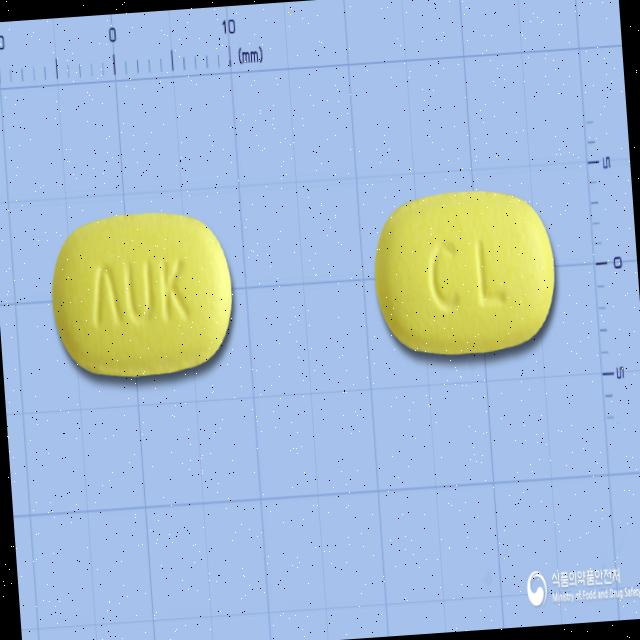Auscle - 500mg: (42, 200, 240, 392)
